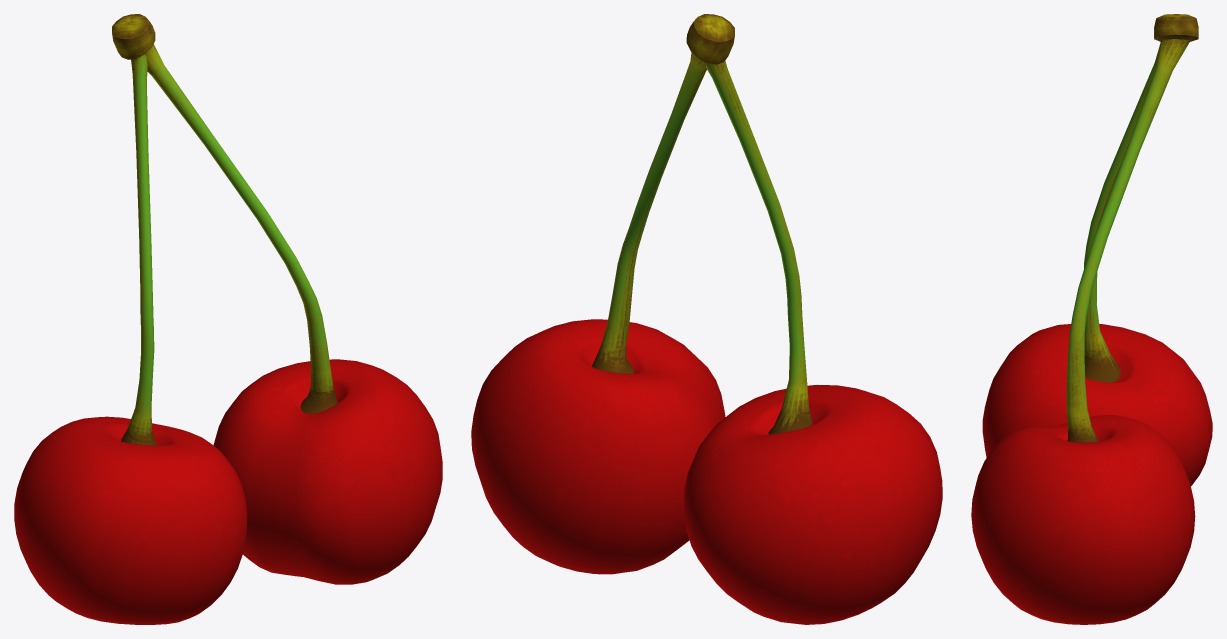
The model's file is cherry.glb.
3 renders of one model, left to right at view 1: azimuth 30°, elevation 25°; view 2: azimuth 150°, elevation 25°; view 3: azimuth 270°, elevation 25°, orthographic. The views are drawn at different scales.
Visible parts, largest first — view 1: pSphere2, pSphere1, pCylinder1, pCylinder2; view 2: pSphere2, pSphere1, pCylinder1, pCylinder2; view 3: pSphere1, pSphere2, pCylinder1, pCylinder2.
Boxes of the visible parts, box(x1,y1,x2,y2) form: pSphere2: box(14, 416, 247, 624); pSphere1: box(213, 359, 442, 584); pCylinder1: box(112, 14, 337, 413); pCylinder2: box(121, 54, 157, 445); pSphere2: box(683, 384, 942, 624); pSphere1: box(471, 319, 725, 574); pCylinder1: box(592, 14, 734, 373); pCylinder2: box(705, 60, 812, 434); pSphere1: box(971, 415, 1195, 624); pSphere2: box(982, 324, 1212, 485); pCylinder1: box(1066, 14, 1198, 442); pCylinder2: box(1084, 44, 1160, 382).
Bounding box in the file's own units: 0.6428 × 0.8536 × 0.3545.
2 materials, 2 textured.
